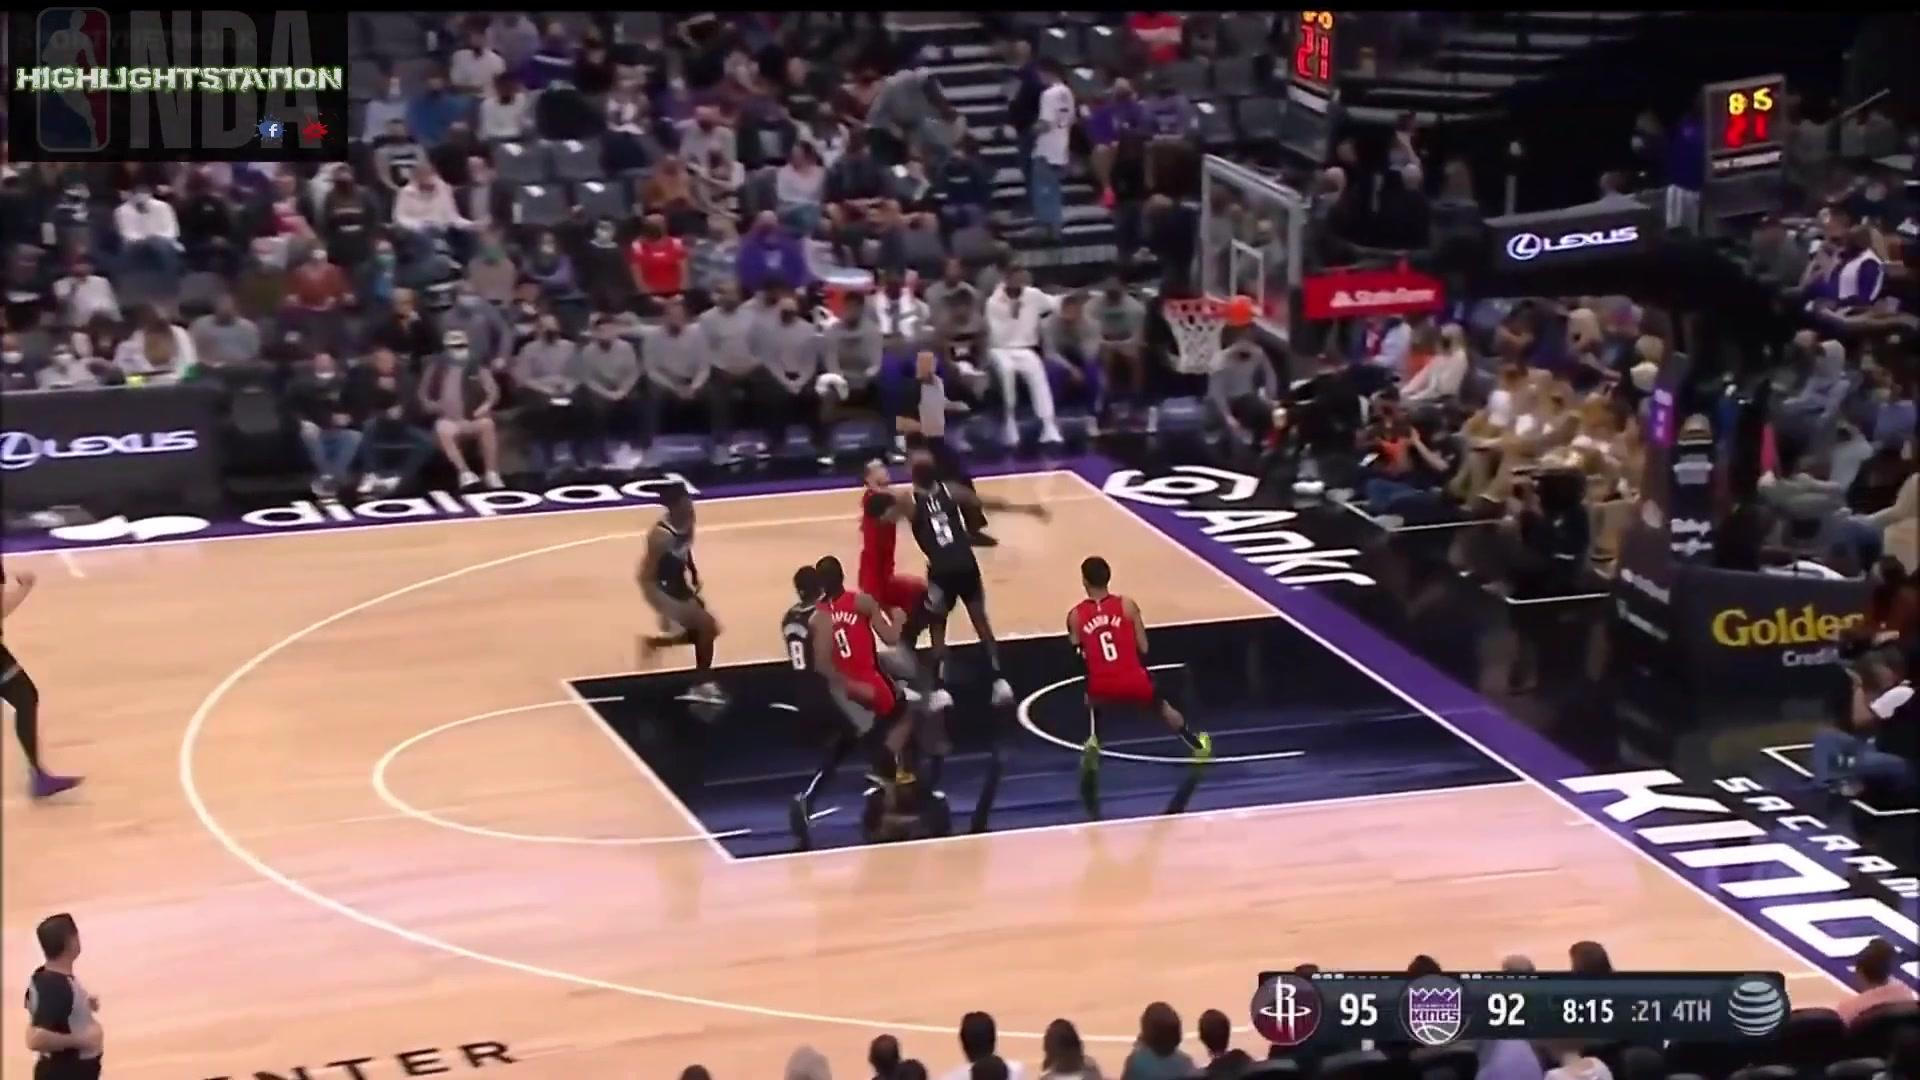no_foul: (765, 567, 938, 862)
